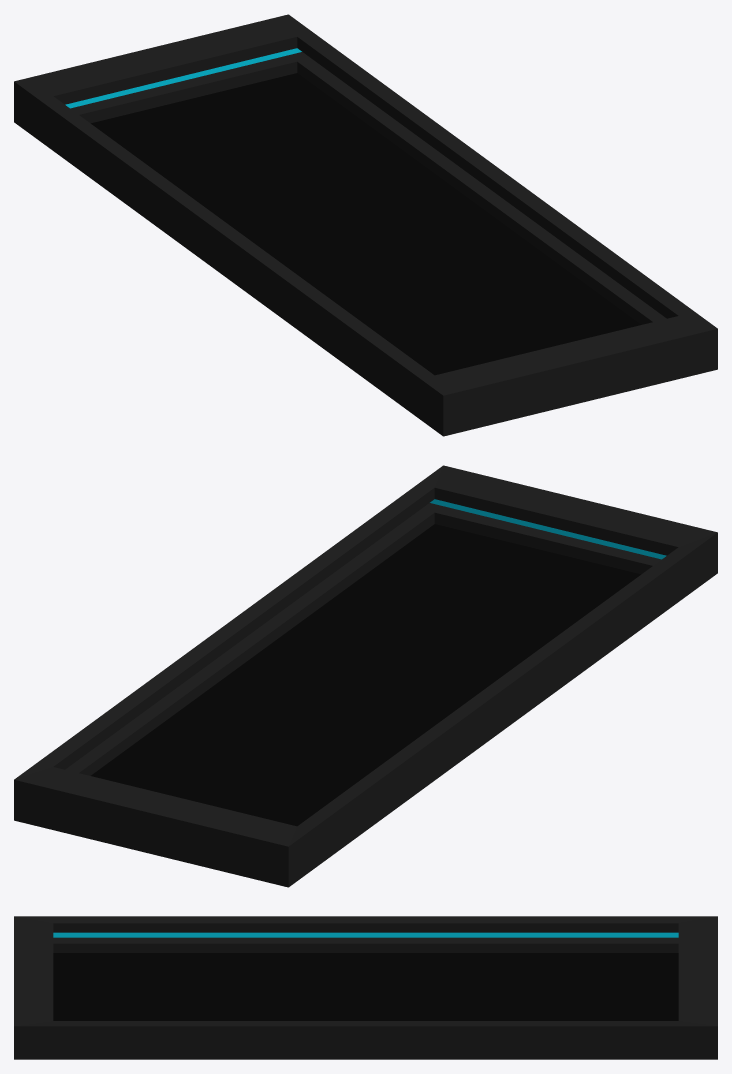
The model's file is new Pinball machine.FBX.
3 views of the same model, one above another, from view 1: azimuth 30°, elevation 25°; view 2: azimuth 150°, elevation 25°; view 3: azimuth 270°, elevation 25° (orthographic). The views are drawn at different scales.
Parts seen in each view (by area): view 1: Box001; view 2: Box001; view 3: Box001.
Boxes of the visible parts, bbox=[...] form: Box001: bbox=[14, 14, 717, 436]; Box001: bbox=[14, 465, 717, 887]; Box001: bbox=[14, 916, 717, 1059].
Size of the model in its own units: 78.46 by 11.16 by 212.
